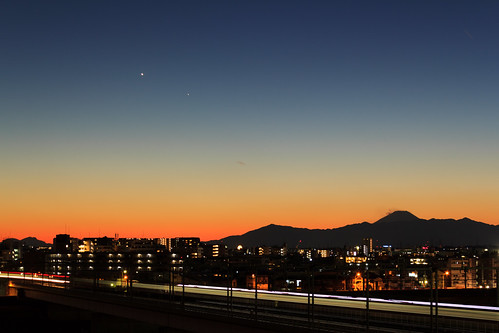building: (51, 238, 190, 275)
mountain: (245, 203, 495, 247)
sky: (8, 1, 499, 221)
